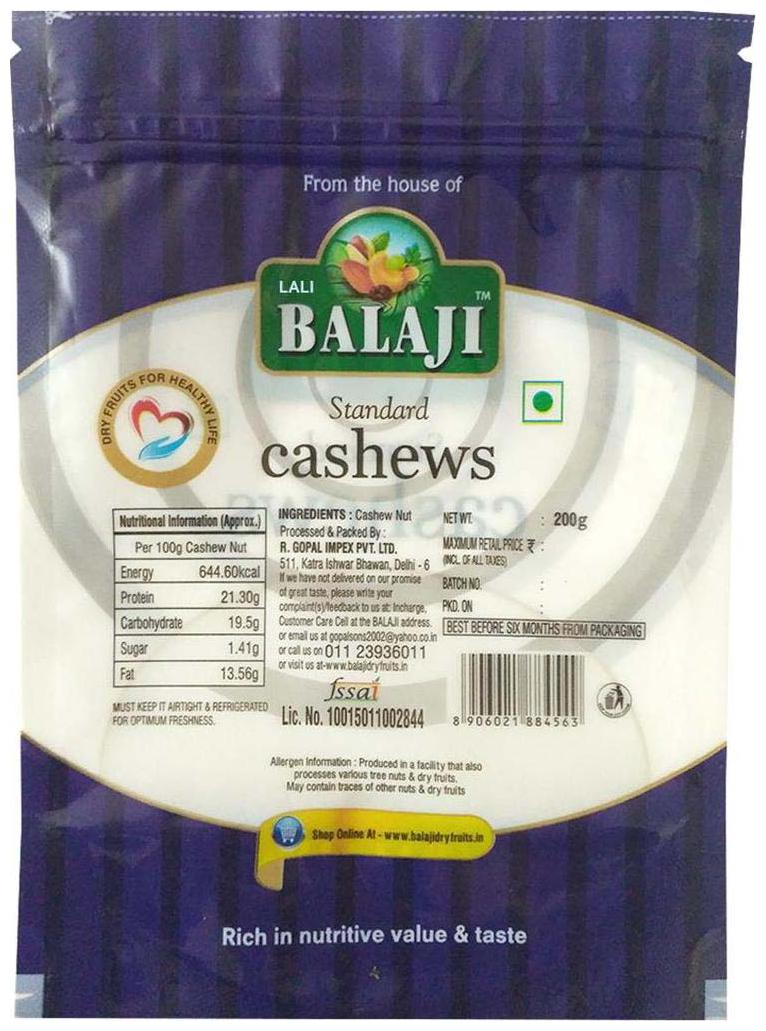fssai: (325, 676, 381, 703)
